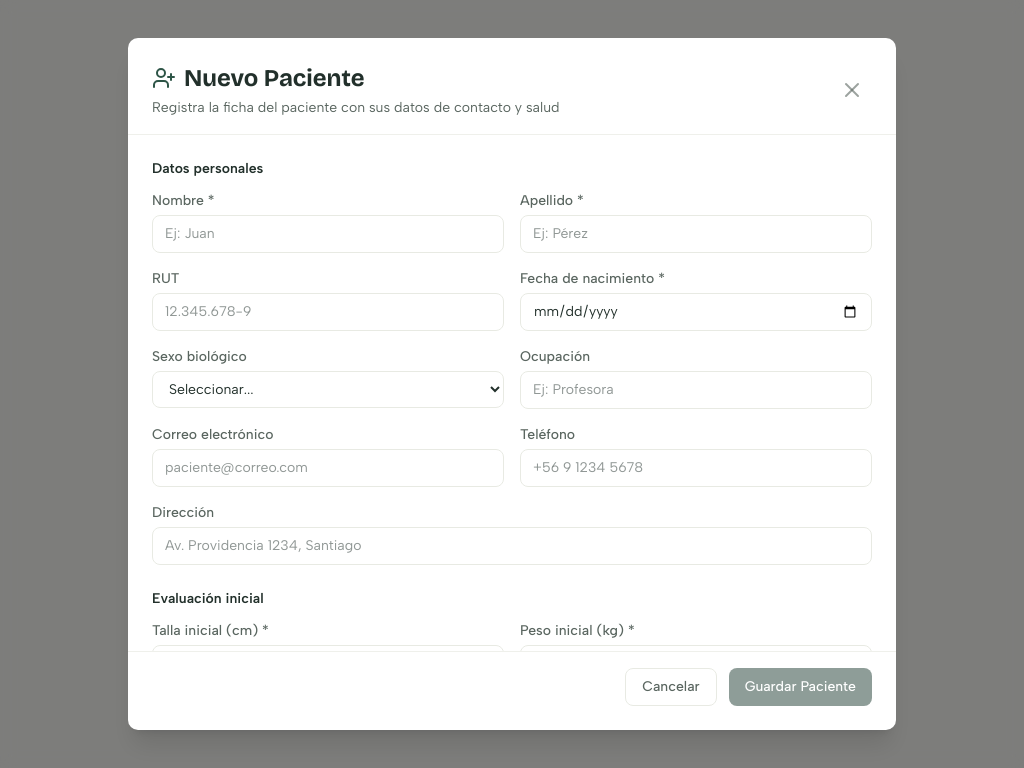
it: ModalNuevoPaciente › validación de RUT › RUT inválido muestra el mensaje de error bajo el campo
Type "12.345.678-0" into the field with placeholder "12.345.678-9" at (328, 312), box [152,293,504,331]
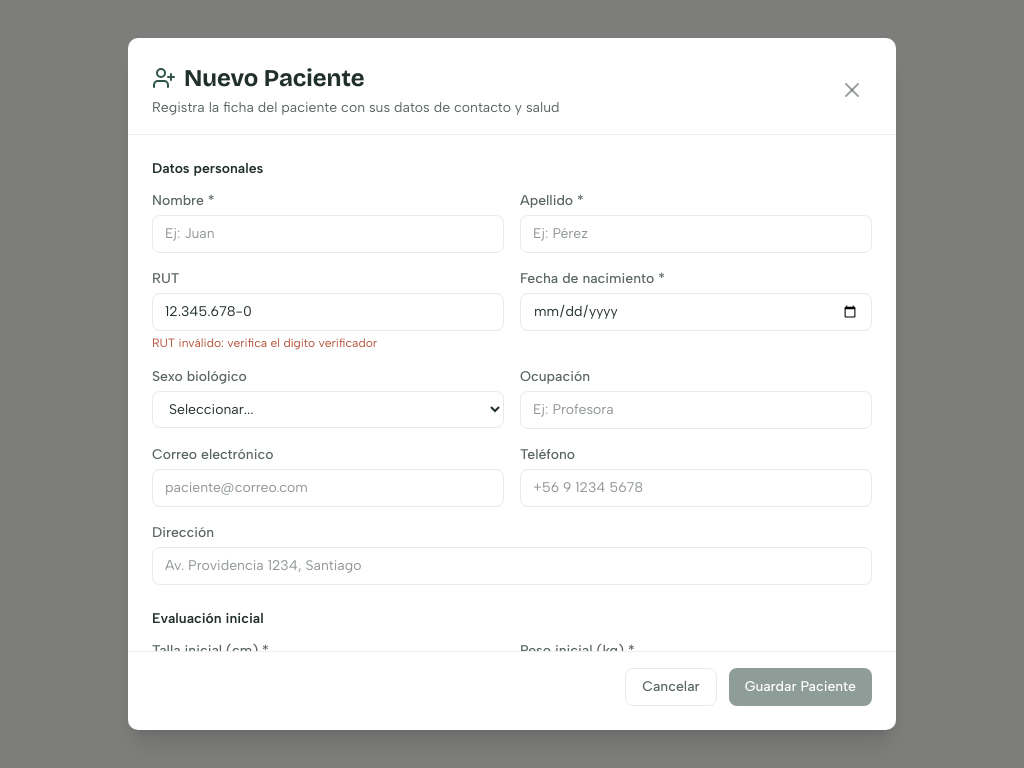
Result: the text "RUT inválido: verifica el dígito verificador" is shown at [152,336,377,350]
